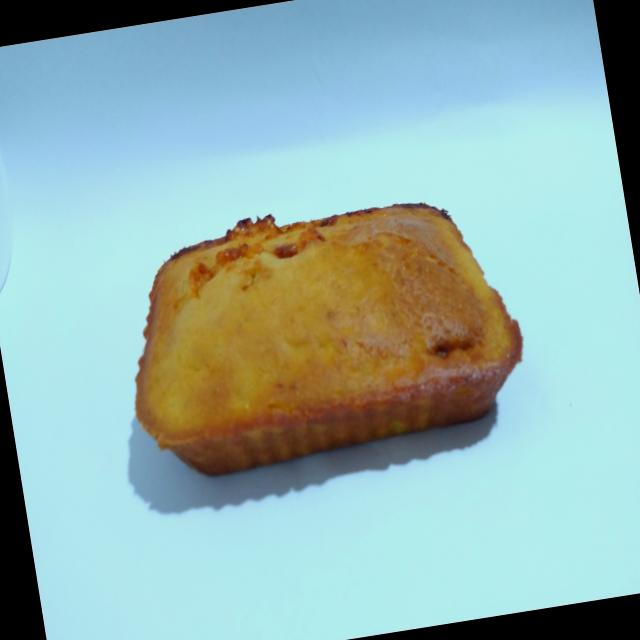Sopa: (95, 168, 547, 500)
